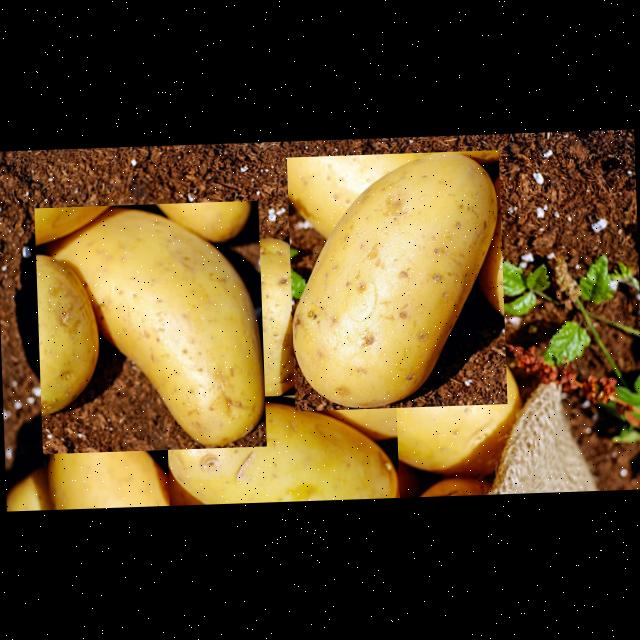Potato: (34, 200, 266, 454), (286, 150, 507, 411), (312, 296, 526, 490), (166, 392, 400, 506), (200, 236, 330, 402), (44, 412, 172, 509)
